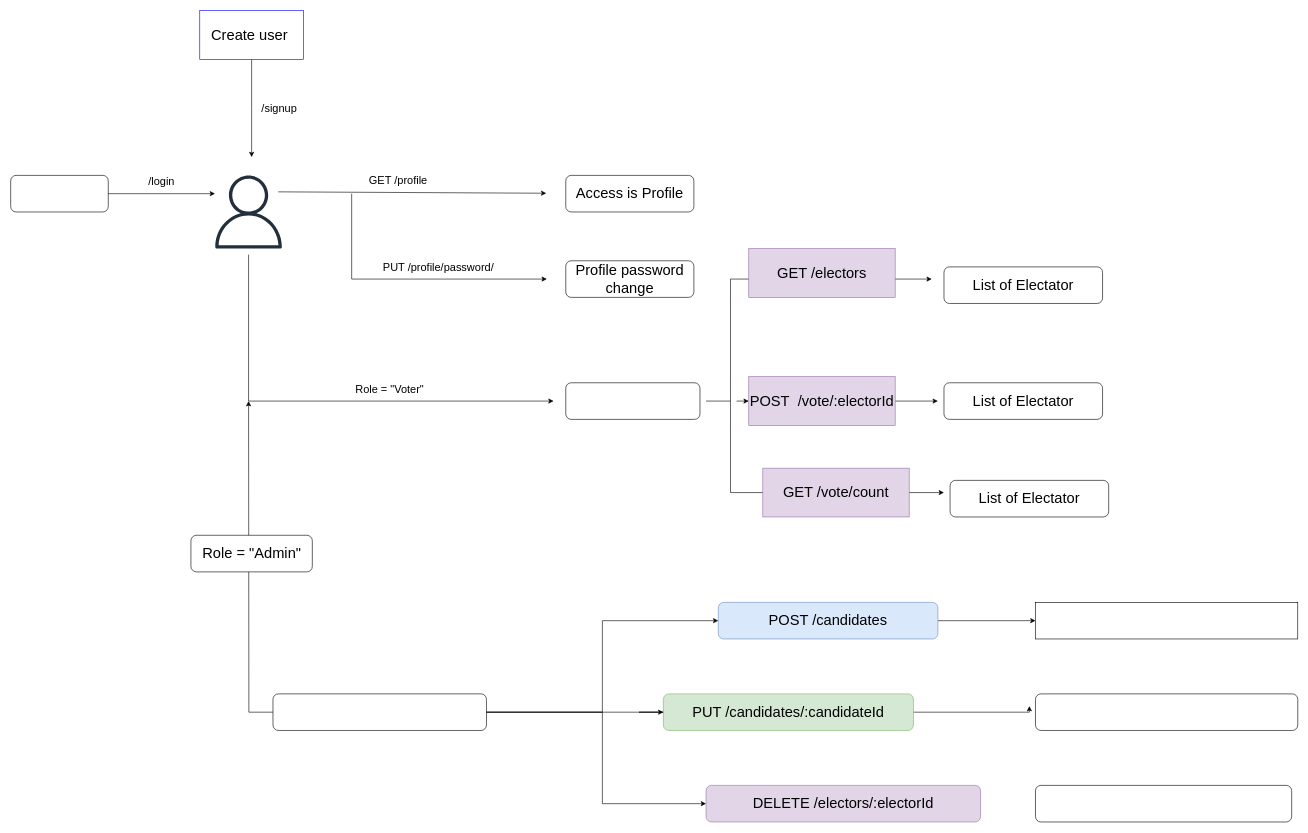
This 1308x833 diagram has some shape labels left out. The centre of each missing label's shape, as x and y in pixels:
"create new electro" goes at pixel 1166 620.
"delete electro" goes at pixel 1163 803.
"Electo management" goes at pixel 379 711.
"Login user" goes at pixel 59 193.
"update exesting electro" goes at pixel 1166 711.
"Vote" goes at pixel 632 400.
